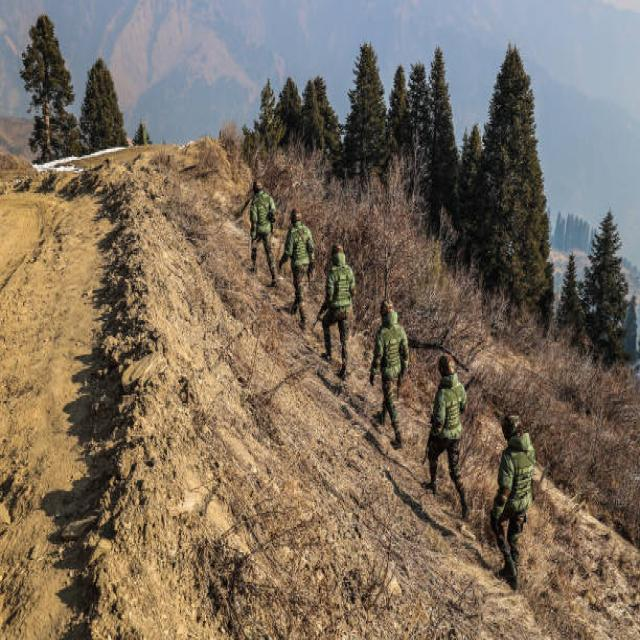soldier: (489, 416, 534, 591), (422, 355, 468, 518), (370, 300, 409, 450), (313, 243, 355, 380), (279, 208, 314, 330), (248, 182, 277, 288)
